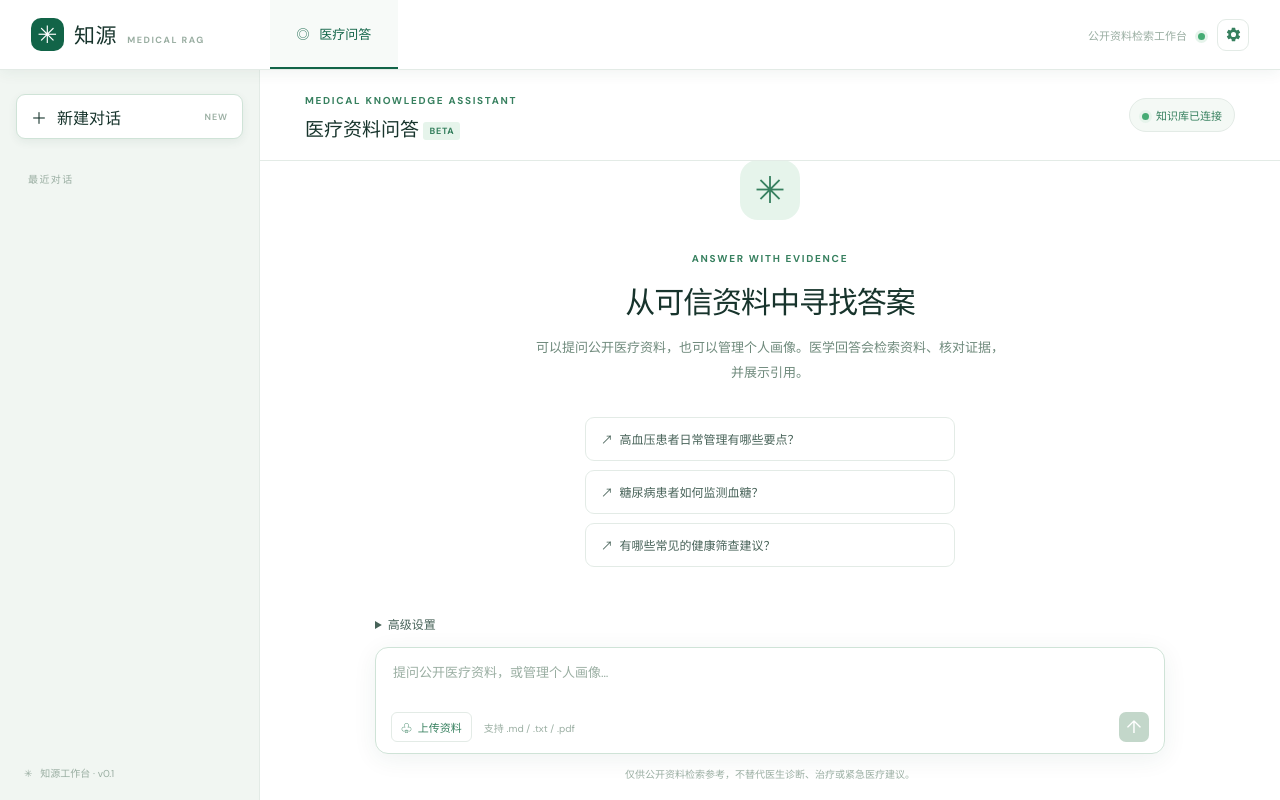
Scenario: shows the returned failed run trace without rendering an answer
This screenshot has width=1280, height=800.
Type "失败问题" into the text box named "输入医疗资料问题".
click(770, 684); type("失败问题")  # box [391,661,1149,707]
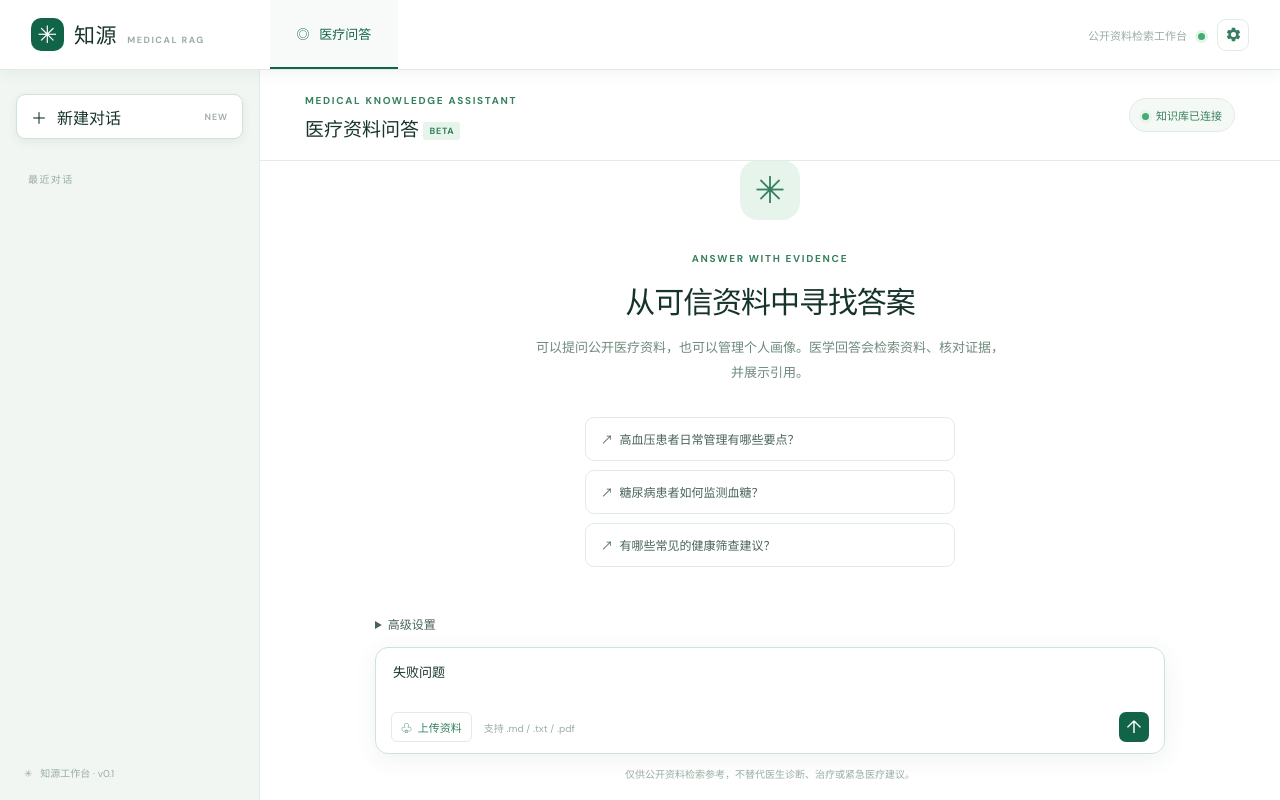
Now the button named "发送问题" is enabled
Click the button named "发送问题".
click(1134, 727)  # box [1119,712,1149,742]
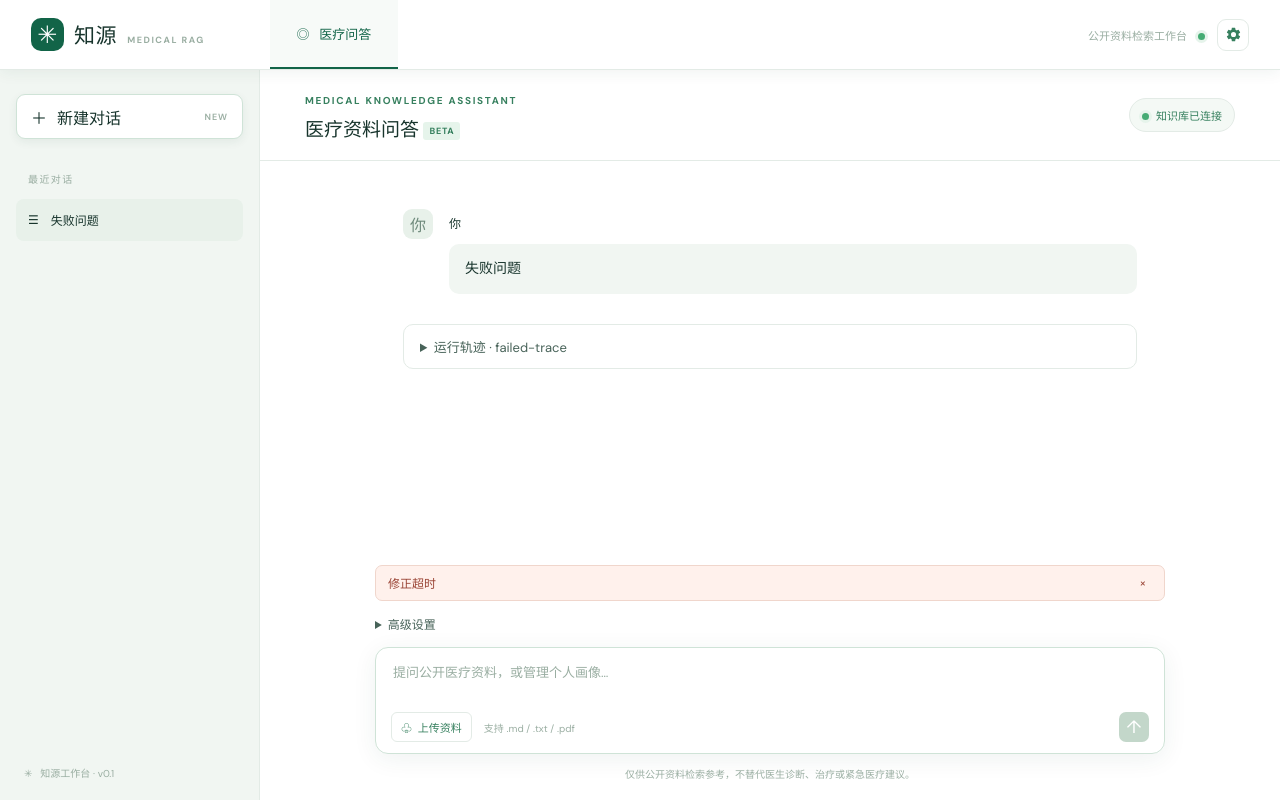
Now the heading "运行轨迹 · failed-trace" is shown, box [434,339,567,356]
